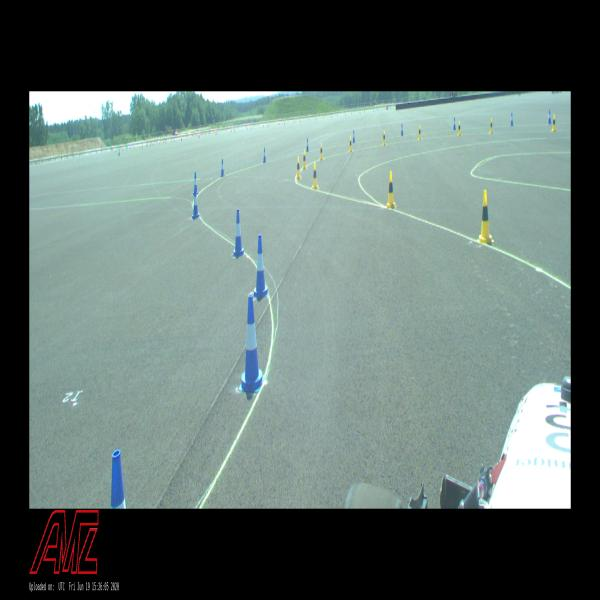blue_cone: (238, 294, 265, 392), (253, 234, 269, 298), (233, 210, 244, 257), (192, 187, 199, 219), (193, 172, 199, 195), (220, 159, 225, 178), (262, 148, 266, 163), (548, 109, 552, 124), (510, 112, 514, 126), (306, 138, 309, 152), (401, 123, 404, 136), (352, 130, 355, 143), (453, 117, 456, 130)
yellow_cone: (478, 190, 494, 244), (386, 171, 396, 209), (312, 163, 319, 189), (296, 158, 301, 179), (302, 150, 307, 168), (552, 114, 556, 131), (320, 143, 324, 160), (489, 118, 493, 134), (382, 130, 386, 145), (458, 121, 461, 136), (418, 125, 421, 140), (349, 137, 352, 151)
